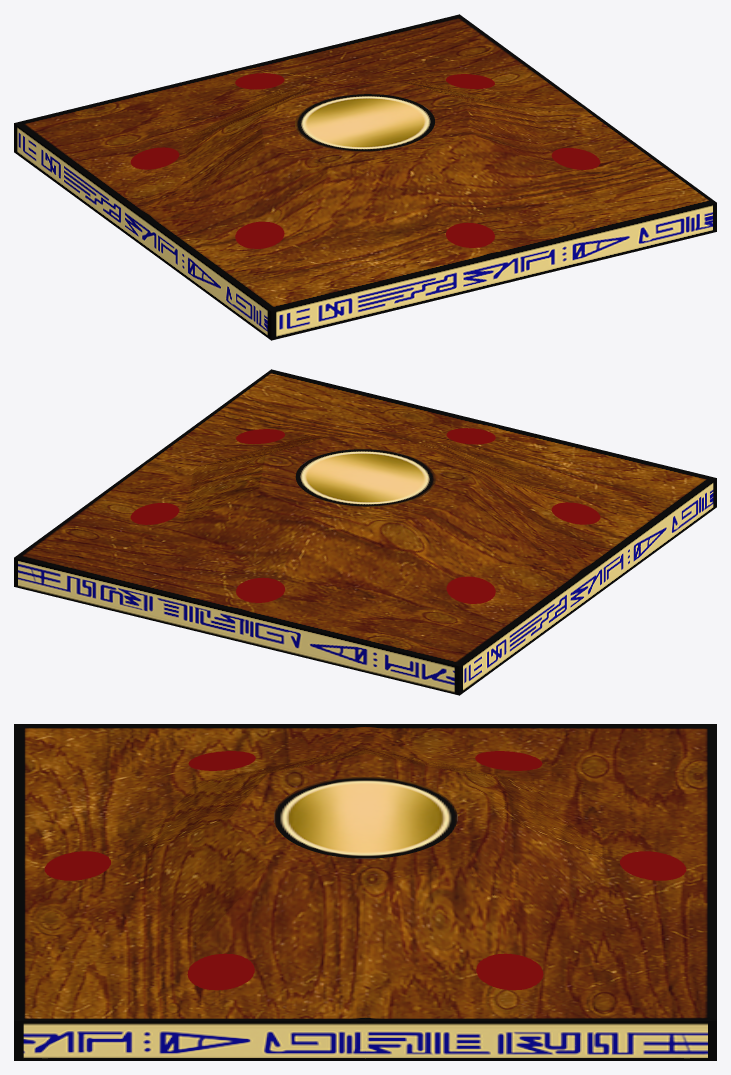
File: jungle_centrebump.gltf
3 views of the same model, one above another, from view 1: azimuth 30°, elevation 25°; view 2: azimuth 150°, elevation 25°; view 3: azimuth 270°, elevation 25° (orthographic). The views are drawn at different scales.
Parts seen in each view (by area): view 1: jungle_centrebump_glb; view 2: jungle_centrebump_glb; view 3: jungle_centrebump_glb.
Part boxes in pixels (x1=…): jungle_centrebump_glb: x1=14, y1=14, x2=716, y2=340; jungle_centrebump_glb: x1=14, y1=369, x2=716, y2=695; jungle_centrebump_glb: x1=14, y1=724, x2=716, y2=1060.
Size of what is drawn, in the model's own units: 4 by 0.5929 by 4.
2 materials, 2 textured.
